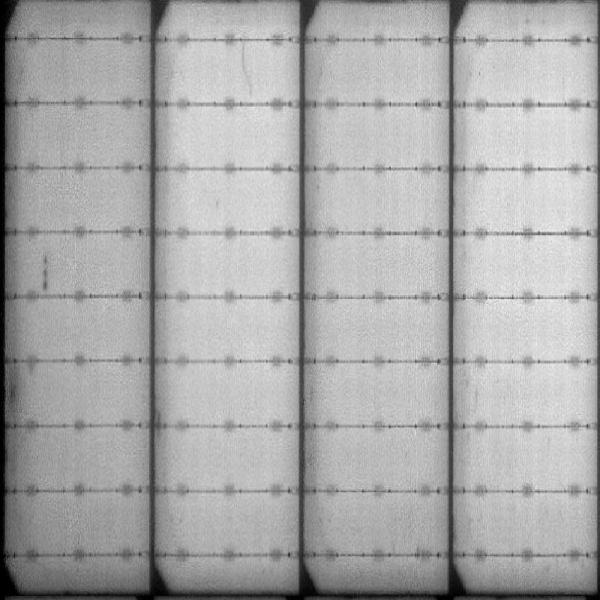scratch: (239, 45, 256, 98), (39, 244, 51, 294)
